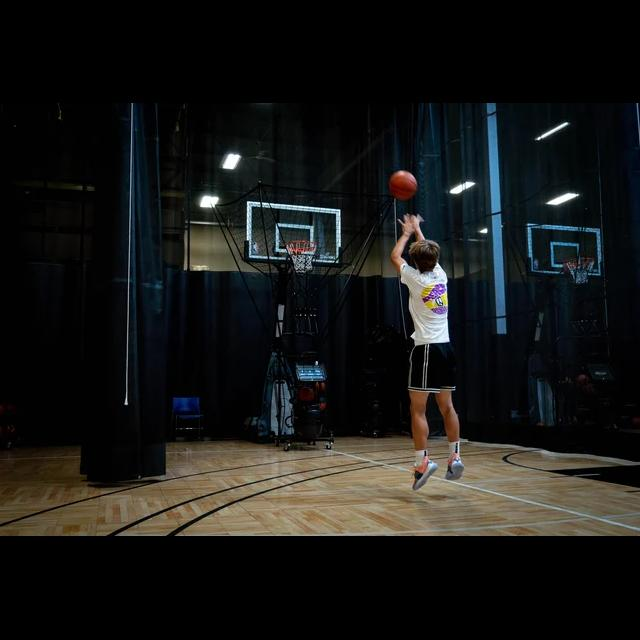basketball: (386, 170, 417, 200)
hoop: (288, 240, 316, 274), (564, 258, 593, 286)
